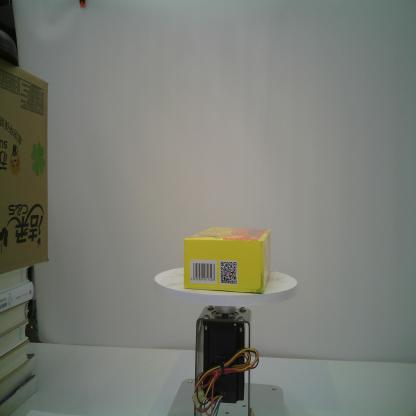Dessert: (184, 227, 272, 295)
